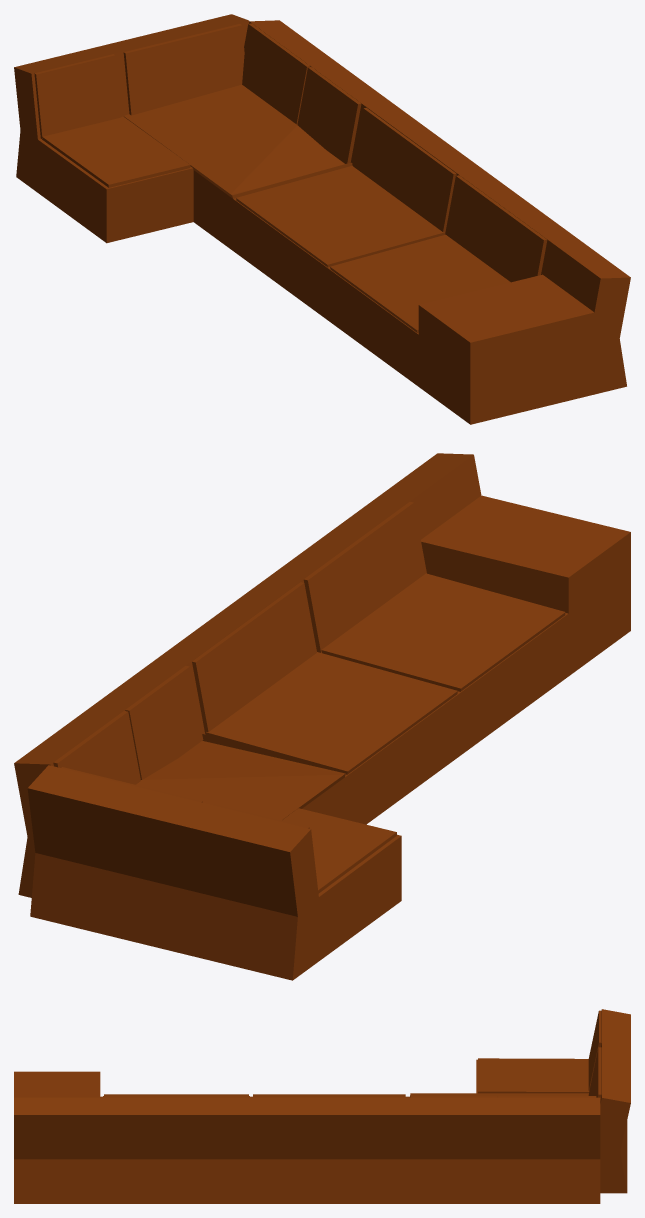
File: LCouch.FBX
3 renders of one model, top to bottom at view 1: azimuth 30°, elevation 25°; view 2: azimuth 150°, elevation 25°; view 3: azimuth 270°, elevation 25°, orthographic. The views are drawn at different scales.
Visible parts, largest first — view 1: Box001, Object001, Object002; view 2: Box001, Object001, Object002; view 3: Box001, Object001, Object002.
Part boxes in pixels (<box>): Box001: <box>124,20,630,424</box>; Object001: <box>14,46,193,243</box>; Object002: <box>98,14,249,222</box>; Box001: <box>14,453,630,897</box>; Object001: <box>184,803,401,980</box>; Object002: <box>27,765,210,954</box>; Box001: <box>14,1071,600,1203</box>; Object001: <box>476,1009,630,1138</box>; Object002: <box>588,1045,630,1193</box>.
Bounding box in the file's own units: 82.54 × 36.53 × 214.
